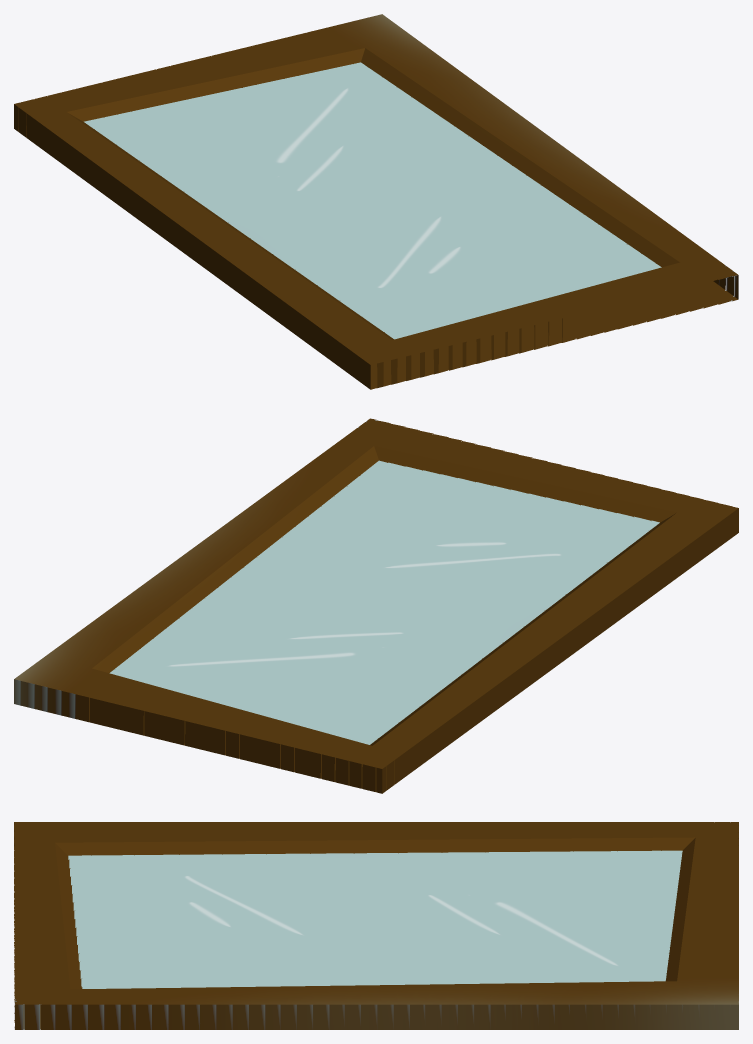
Rendered from New Mirror.FBX.
3 views of the same model, one above another, from view 1: azimuth 30°, elevation 25°; view 2: azimuth 150°, elevation 25°; view 3: azimuth 270°, elevation 25° (orthographic).
Parts seen in each view (by area): view 1: Box001; view 2: Box001; view 3: Box001.
Boxes of the visible parts, x1,y1,x2,y2 form: Box001: (14, 14, 738, 389); Box001: (14, 418, 738, 793); Box001: (14, 822, 738, 1029).
Bounding box in the file's own units: 0.4517 × 0.0291 × 0.7576.
Materials: 1 (1 with a texture image).
